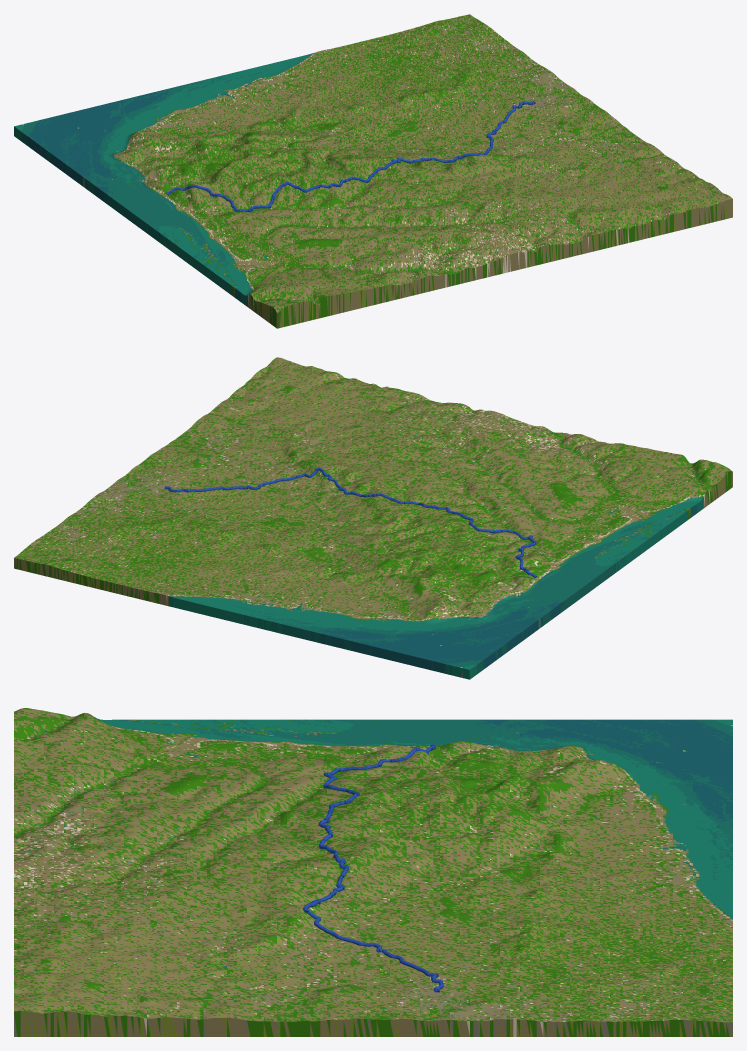
3 views of the same model, one above another, from view 1: azimuth 30°, elevation 25°; view 2: azimuth 150°, elevation 25°; view 3: azimuth 270°, elevation 25° (orthographic). The views are drawn at different scales.
Parts seen in each view (by area): view 1: terrain_color_01_01, terrain_color_02_01, terrain_color_03_01, terrain_color_04_01, terrain_color_05_01, terrain_color_06_01, terrain_color_08_01, terrain_color_07_01, gpx_trace_01; view 2: terrain_color_01_01, terrain_color_02_01, terrain_color_03_01, terrain_color_04_01, terrain_color_05_01, terrain_color_06_01, terrain_color_07_01, terrain_color_08_01, gpx_trace_01; view 3: terrain_color_01_01, terrain_color_02_01, terrain_color_03_01, terrain_color_04_01, terrain_color_05_01, terrain_color_06_01, terrain_color_07_01, terrain_color_08_01, gpx_trace_01.
Boxes of the visible parts, bbox=[...] form: terrain_color_01_01: bbox=[23, 14, 732, 328]; terrain_color_02_01: bbox=[77, 14, 730, 328]; terrain_color_03_01: bbox=[126, 15, 730, 327]; terrain_color_04_01: bbox=[14, 52, 624, 306]; terrain_color_05_01: bbox=[21, 53, 630, 302]; terrain_color_06_01: bbox=[27, 87, 578, 242]; terrain_color_08_01: bbox=[22, 20, 717, 309]; terrain_color_07_01: bbox=[83, 16, 724, 307]; gpx_trace_01: bbox=[166, 101, 535, 212]; terrain_color_01_01: bbox=[14, 357, 732, 667]; terrain_color_02_01: bbox=[14, 358, 731, 646]; terrain_color_03_01: bbox=[15, 357, 729, 619]; terrain_color_04_01: bbox=[137, 405, 703, 679]; terrain_color_05_01: bbox=[76, 404, 700, 675]; terrain_color_06_01: bbox=[262, 437, 697, 673]; terrain_color_07_01: bbox=[14, 360, 725, 677]; terrain_color_08_01: bbox=[34, 362, 709, 667]; gpx_trace_01: bbox=[164, 467, 536, 577]; terrain_color_01_01: bbox=[14, 708, 732, 1036]; terrain_color_02_01: bbox=[14, 708, 732, 1036]; terrain_color_03_01: bbox=[14, 709, 732, 1036]; terrain_color_04_01: bbox=[14, 717, 732, 1008]; terrain_color_05_01: bbox=[34, 719, 732, 1017]; terrain_color_06_01: bbox=[39, 719, 732, 966]; terrain_color_07_01: bbox=[14, 708, 732, 1036]; terrain_color_08_01: bbox=[14, 715, 732, 1036]; gpx_trace_01: bbox=[303, 744, 443, 992].
Size of the model in its own units: 150 by 7.4 by 150.
